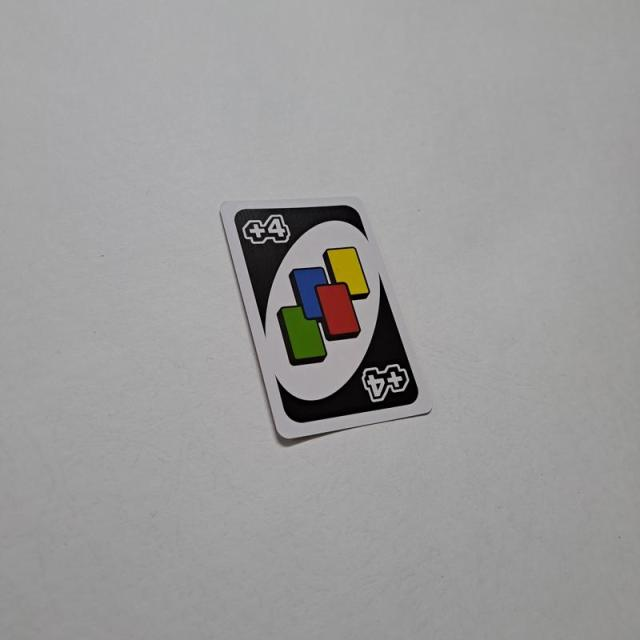Draw_Four: (232, 200, 424, 426)
